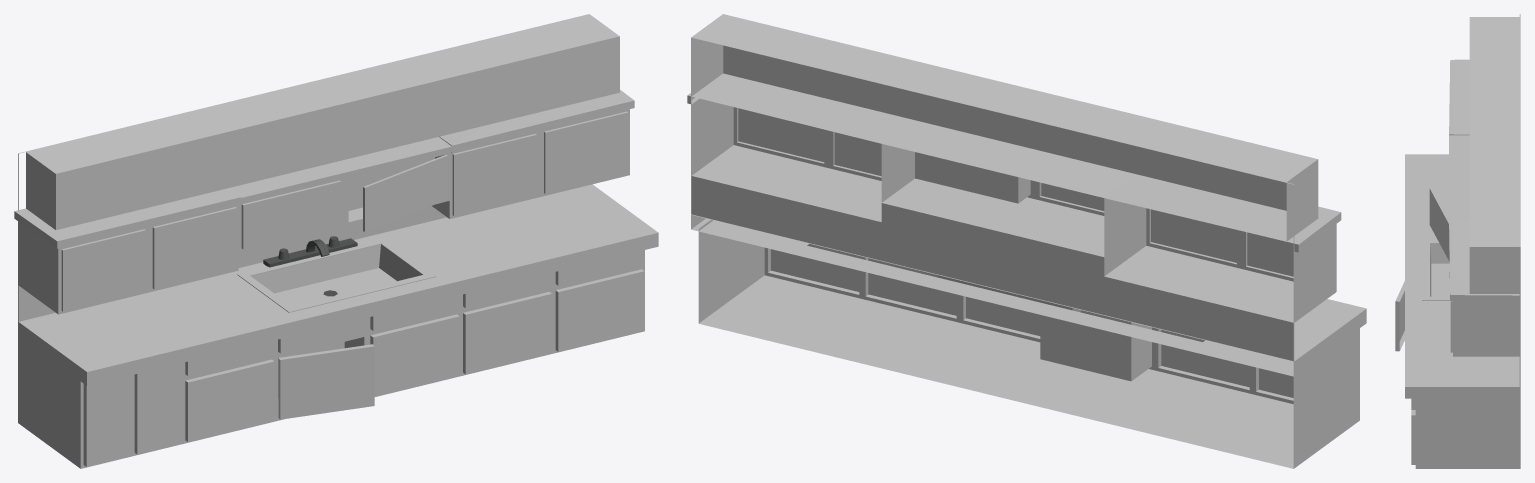
Rendered from KitchenProp.FBX.
3 renders of one model, left to right at view 1: azimuth 30°, elevation 25°; view 2: azimuth 150°, elevation 25°; view 3: azimuth 270°, elevation 25°, orthographic. The views are drawn at different scales.
Parts seen in each view (by area): view 1: Kitchenprop; view 2: Kitchenprop; view 3: Kitchenprop.
Part boxes in pixels (box(x1,y1,x2,y2)): Kitchenprop: box(14, 14, 658, 468); Kitchenprop: box(687, 14, 1366, 468); Kitchenprop: box(1395, 14, 1520, 468).
Bounding box in the file's own units: 544 × 242 × 122.
